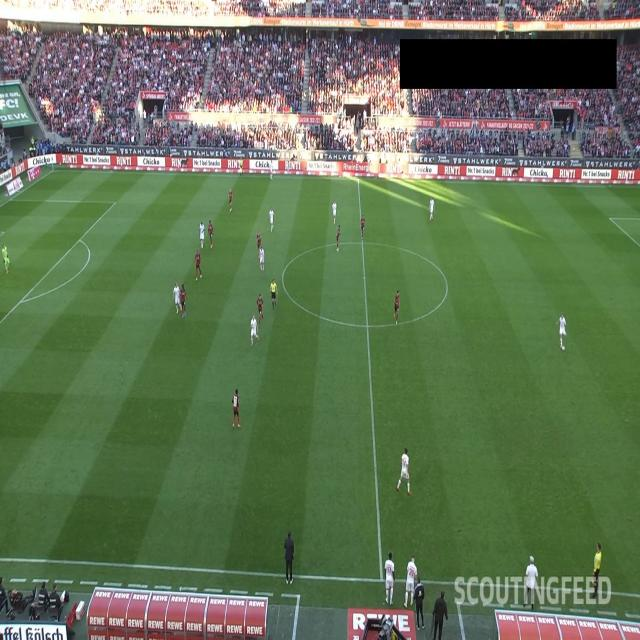ball: (562, 345, 565, 351)
